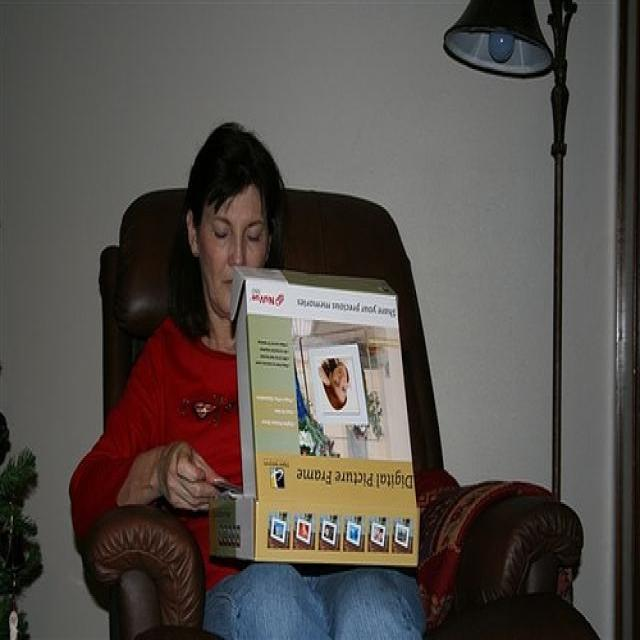chair: (90, 178, 588, 638)
